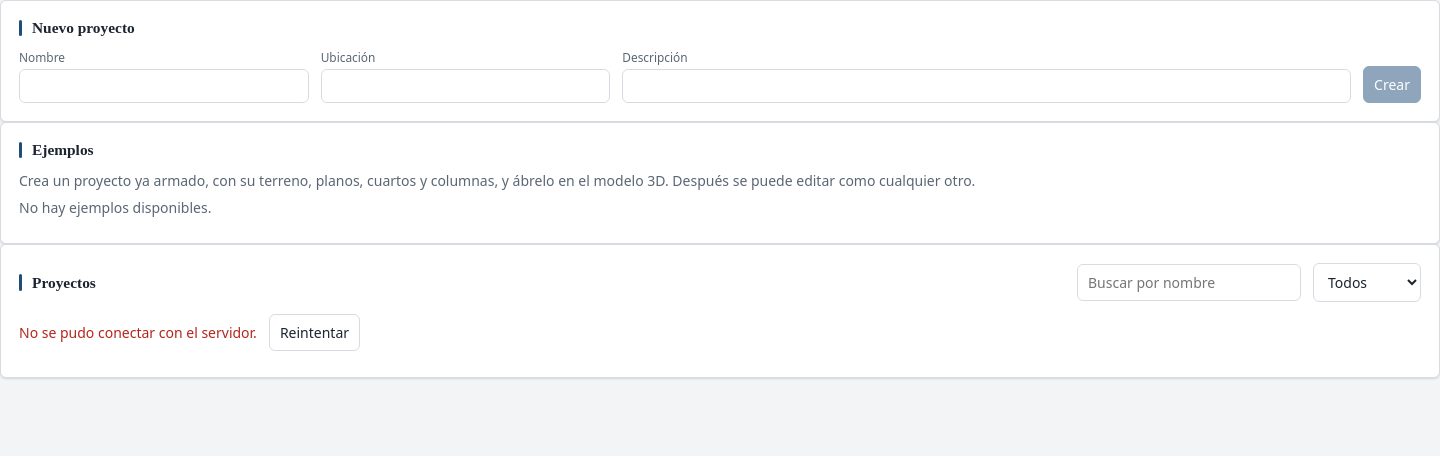
Scenario: ProjectsPage › shows a load error and reloads when the user retries
Click the button "Reintentar" at (314, 332), box [269, 314, 360, 351]
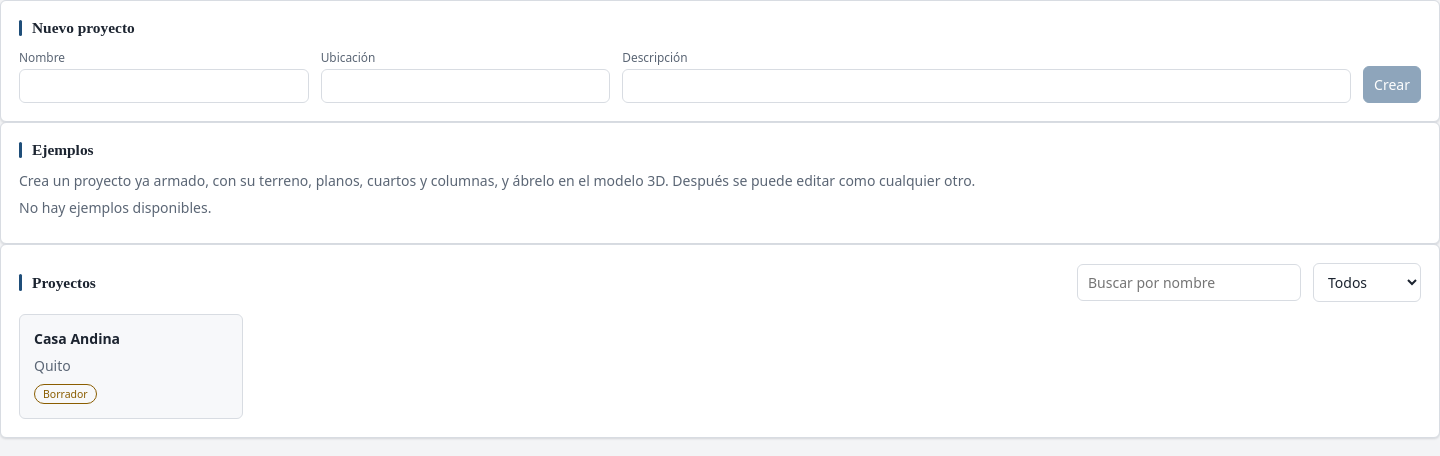
expect the button "Casa Andina Quito Borrador" is shown: met, box [19, 314, 243, 419]
expect the text "No se pudo conectar con el servidor." is gone: met
